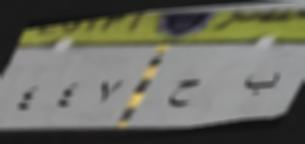4: (15, 81, 42, 117), (55, 80, 82, 114)
7: (95, 77, 127, 105)
7aa: (158, 74, 204, 112)
baa: (238, 66, 284, 100)
